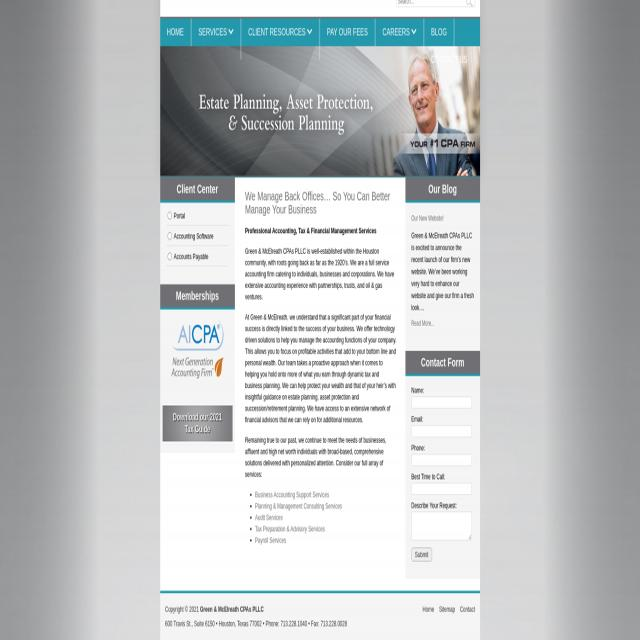button: (163, 407, 233, 442), (171, 318, 224, 353), (171, 356, 224, 379), (412, 547, 432, 561)
field: (412, 512, 472, 541), (411, 425, 472, 437), (411, 454, 472, 466), (411, 483, 472, 495), (411, 397, 472, 408), (396, 0, 475, 7), (167, 212, 172, 220), (167, 232, 172, 240), (167, 252, 172, 260)
